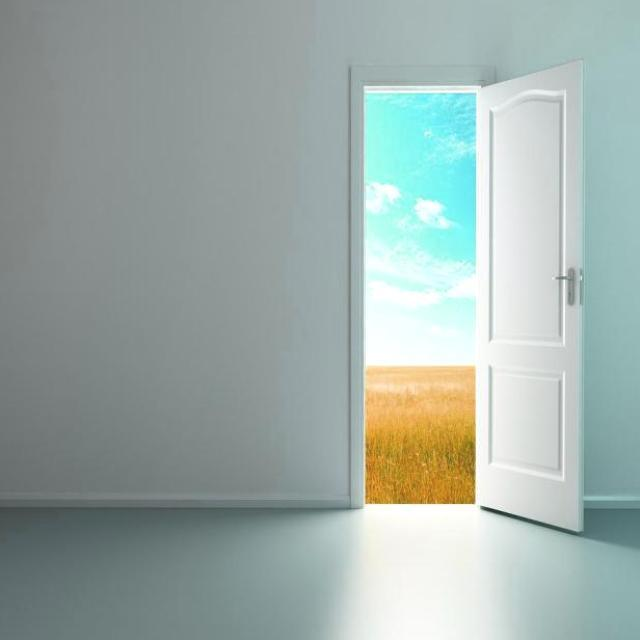Door: (474, 58, 585, 533)
